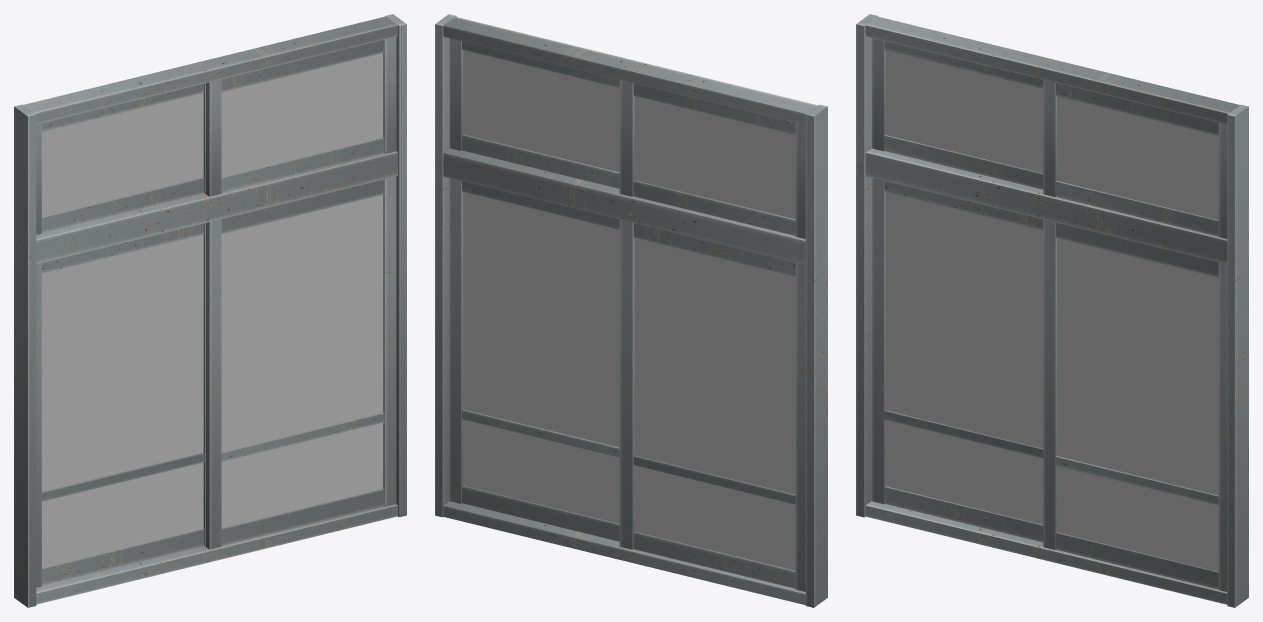
Rendered from bil_window_b2_1.fbx.
3 renders of one model, left to right at view 1: azimuth 30°, elevation 25°; view 2: azimuth 150°, elevation 25°; view 3: azimuth 330°, elevation 25°, orthographic.
Visible parts, largest first — view 1: bil_window_b2_1; view 2: bil_window_b2_1; view 3: bil_window_b2_1.
Boxes of the visible parts, x1,y1,x2,y2 form: bil_window_b2_1: [14, 14, 406, 607]; bil_window_b2_1: [435, 14, 827, 607]; bil_window_b2_1: [856, 14, 1248, 607].
Size of the model in its own units: 183 by 227 by 11.68.
